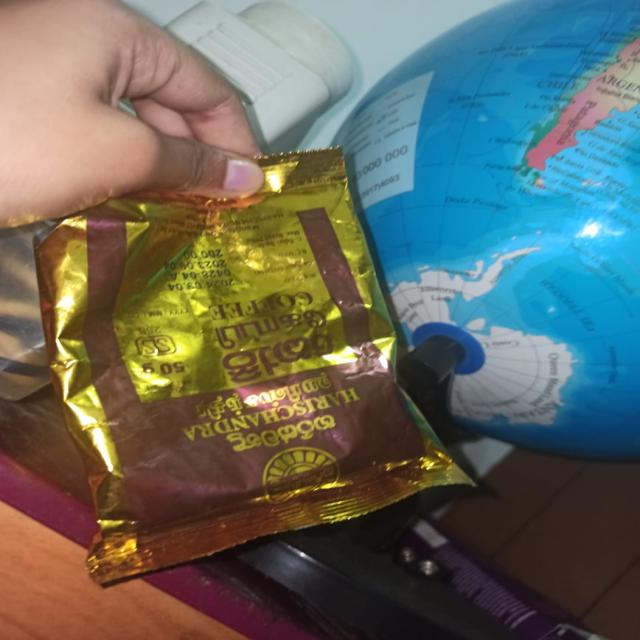Harischandra Coffee: (34, 130, 507, 532)
